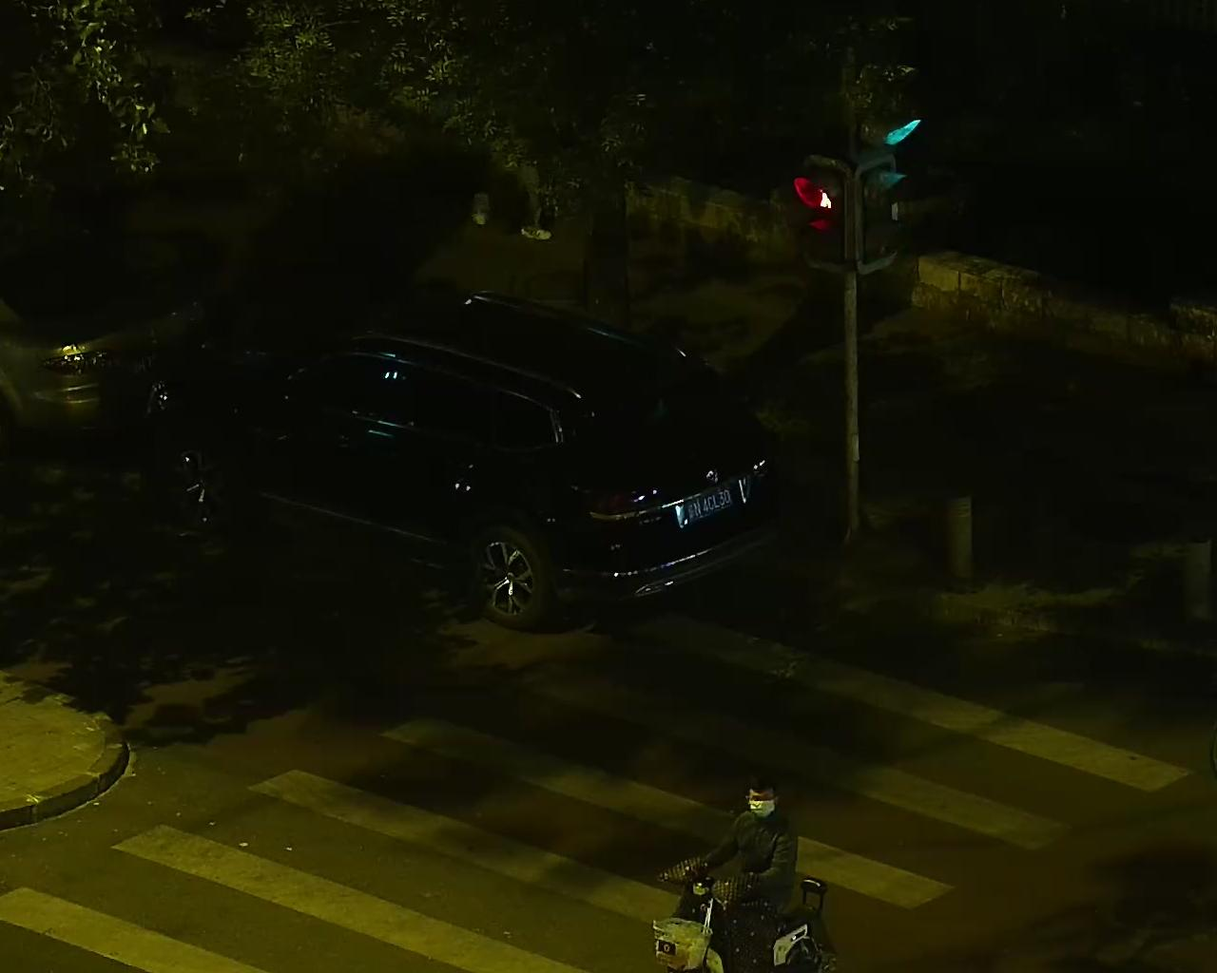person: (717, 753, 817, 904)
